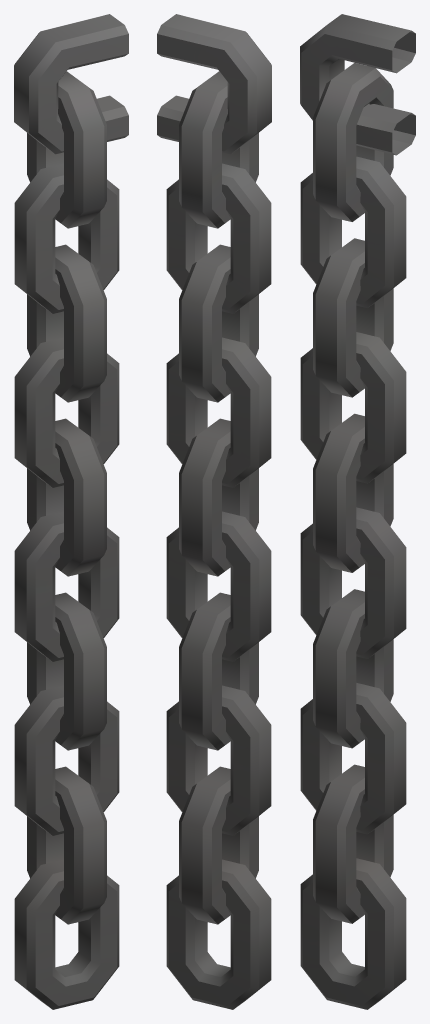
The model's file is Chain_1_1.obj.
The picture shows the model from 3 angles, left to right: view 1: azimuth 30°, elevation 25°; view 2: azimuth 150°, elevation 25°; view 3: azimuth 330°, elevation 25°; orthographic projection.
Parts seen in each view (by area): view 1: Chain_1_1; view 2: Chain_1_1; view 3: Chain_1_1.
Part boxes in pixels (box(x1,y1,x2,y2)): Chain_1_1: box(14, 14, 128, 1009); Chain_1_1: box(157, 14, 271, 1009); Chain_1_1: box(300, 14, 415, 1009).
Size of the model in its own units: 0.1171 by 1.12 by 0.1122.
